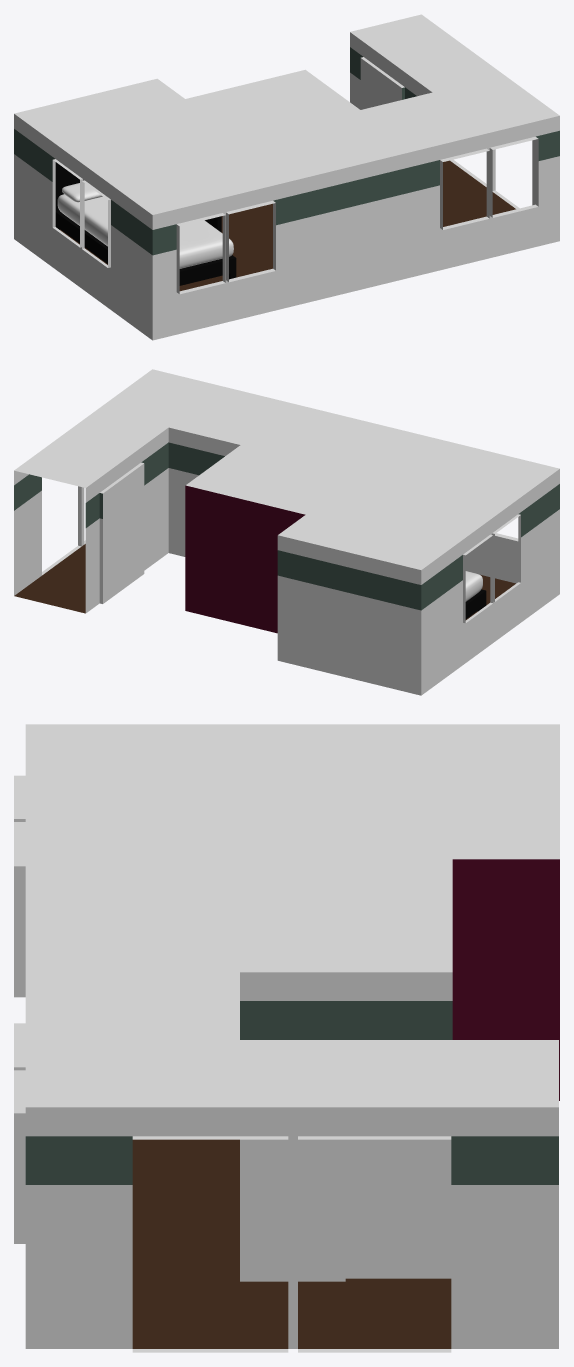
Rendered from Bedroom.fbx.
3 views of the same model, one above another, from view 1: azimuth 30°, elevation 25°; view 2: azimuth 150°, elevation 25°; view 3: azimuth 270°, elevation 25° (orthographic). The views are drawn at different scales.
Parts seen in each view (by area): view 1: Bedroom, Matress, Bed, Pillow; view 2: Bedroom, Matress; view 3: Bedroom.
Boxes of the visible parts, left/top/right/bottom form: Bedroom: left=14, top=14, right=559, bottom=340; Matress: left=57, top=194, right=233, bottom=268; Bed: left=55, top=162, right=236, bottom=285; Pillow: left=62, top=183, right=102, bottom=202; Bedroom: left=14, top=369, right=559, bottom=695; Matress: left=465, top=571, right=482, bottom=601; Bedroom: left=14, top=724, right=559, bottom=1352.
Bounding box in the file's own units: 1726 × 501 × 1024.
